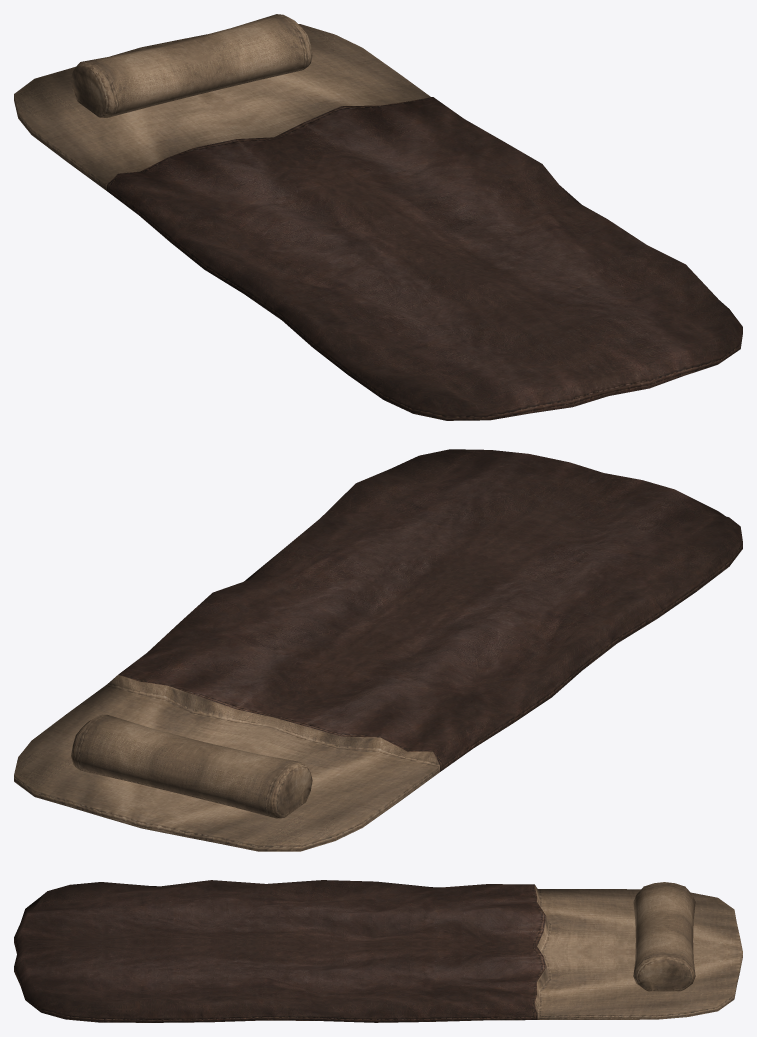
File: Bedroll01.fbx
The picture shows the model from 3 angles, top to bottom: view 1: azimuth 30°, elevation 25°; view 2: azimuth 150°, elevation 25°; view 3: azimuth 270°, elevation 25°; orthographic projection. The views are drawn at different scales.
Parts seen in each view (by area): view 1: Bedroll01_LOD0; view 2: Bedroll01_LOD0; view 3: Bedroll01_LOD0.
Part boxes in pixels (x1,y1,x2,y2): Bedroll01_LOD0: [14, 14, 742, 420]; Bedroll01_LOD0: [14, 449, 742, 851]; Bedroll01_LOD0: [14, 880, 742, 1022].
Size of what is drawn, in the model's own units: 0.817 by 0.1095 by 1.91.
